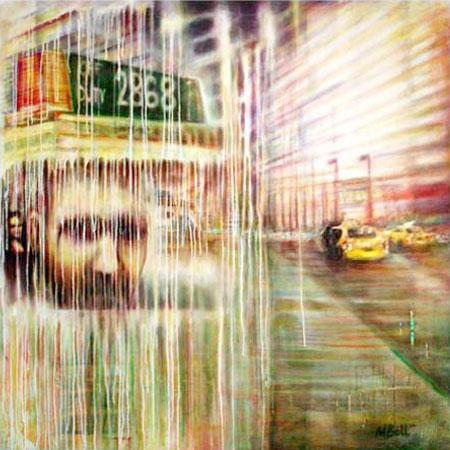person: (32, 166, 145, 324), (4, 208, 32, 280)
